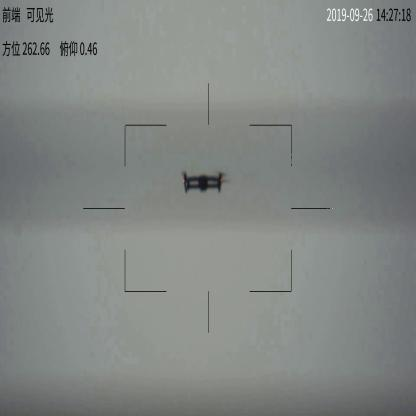uav: (174, 166, 231, 196)
